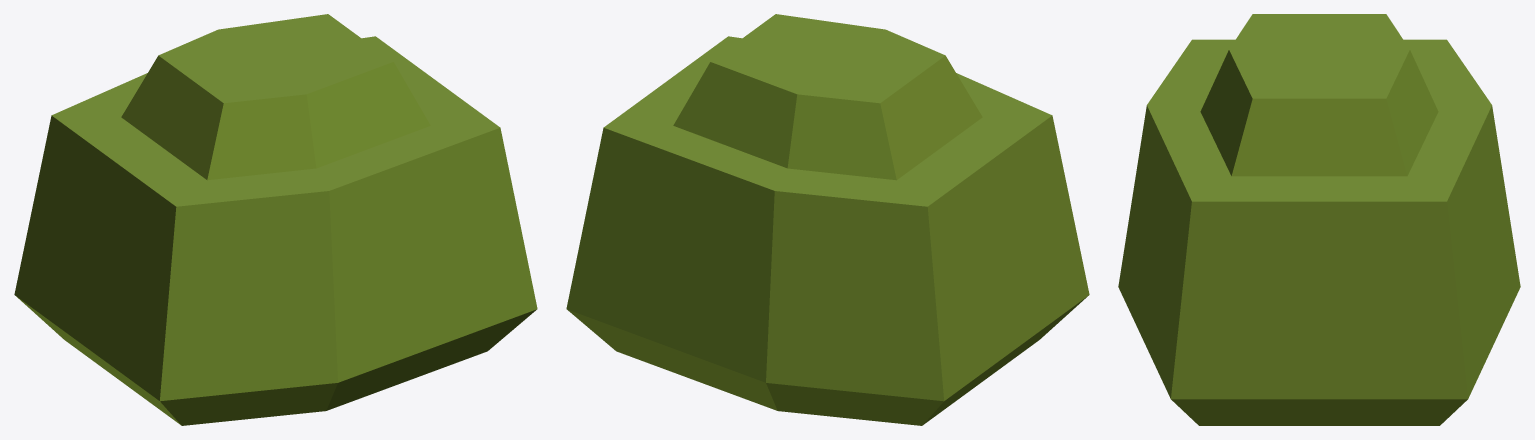
File: Bush.fbx
The picture shows the model from 3 angles, left to right: view 1: azimuth 30°, elevation 25°; view 2: azimuth 150°, elevation 25°; view 3: azimuth 270°, elevation 25°; orthographic projection. The views are drawn at different scales.
Visible parts, largest first — view 1: ST_Prop_Plant_02; view 2: ST_Prop_Plant_02; view 3: ST_Prop_Plant_02.
Boxes of the visible parts, <box> form: ST_Prop_Plant_02: <box>14,14,537,425</box>; ST_Prop_Plant_02: <box>566,14,1089,425</box>; ST_Prop_Plant_02: <box>1118,14,1520,425</box>.
Bounding box in the file's own units: 0.5478 × 0.3976 × 0.4943.
